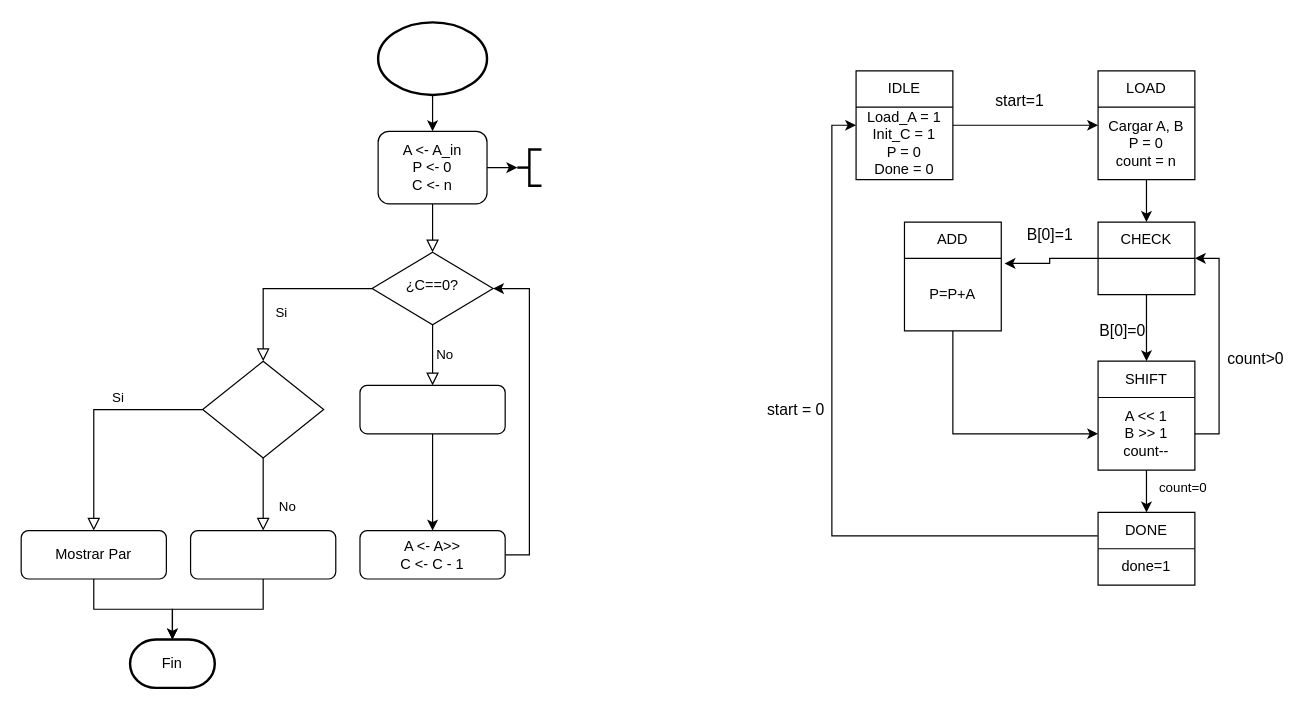
The diagram is 1308 pixels wide and 709 high, and some of its shapes have lost their labels. Here are the shapes that lost their labels. From the top down, the centre of each, then its label:
At (x=432, y=58): "Inicio".
At (x=528, y=167): "n= tamaño de bits de A".
At (x=262, y=409): "¿P == 0?".
At (x=432, y=409): "P <- P XOR A[0]".
At (x=262, y=554): "Mostrar Impar".
